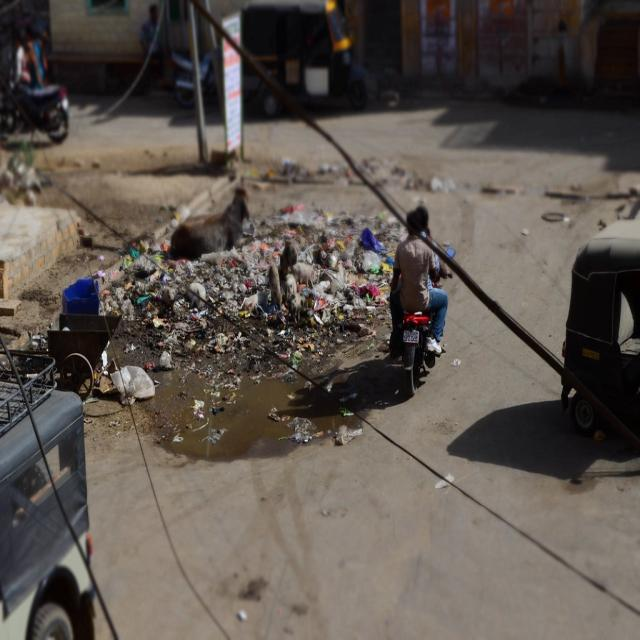garbage: (118, 190, 398, 381), (253, 147, 448, 190)
pothole: (538, 176, 602, 220), (227, 569, 285, 602), (474, 182, 522, 196)
